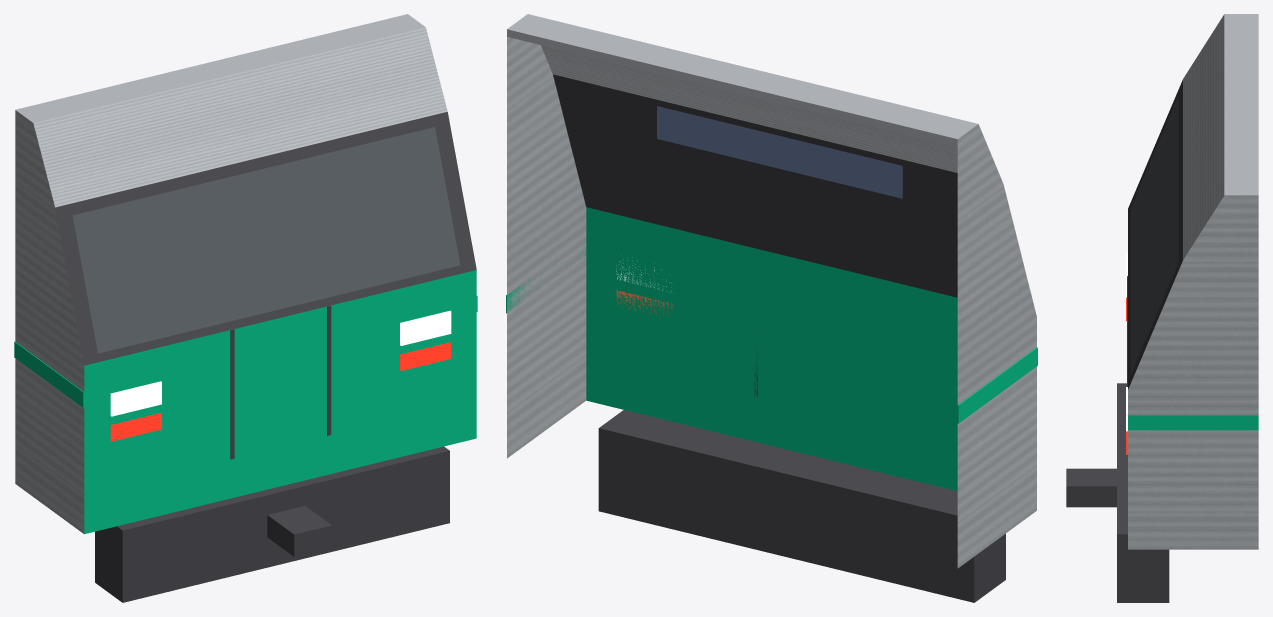
Rendered from train_cab.glb.
The picture shows the model from 3 angles, left to right: view 1: azimuth 30°, elevation 25°; view 2: azimuth 150°, elevation 25°; view 3: azimuth 270°, elevation 25°; orthographic projection. The views are drawn at different scales.
Visible parts, largest first — view 1: CabBody; view 2: CabBody; view 3: CabBody.
Part boxes in pixels (bbox=[...]): CabBody: bbox=[14, 14, 477, 602]; CabBody: bbox=[506, 14, 1037, 602]; CabBody: bbox=[1066, 14, 1258, 602].
Bounding box in the file's own units: 3.13 × 3.39 × 1.4.
8 materials, 1 textured.
